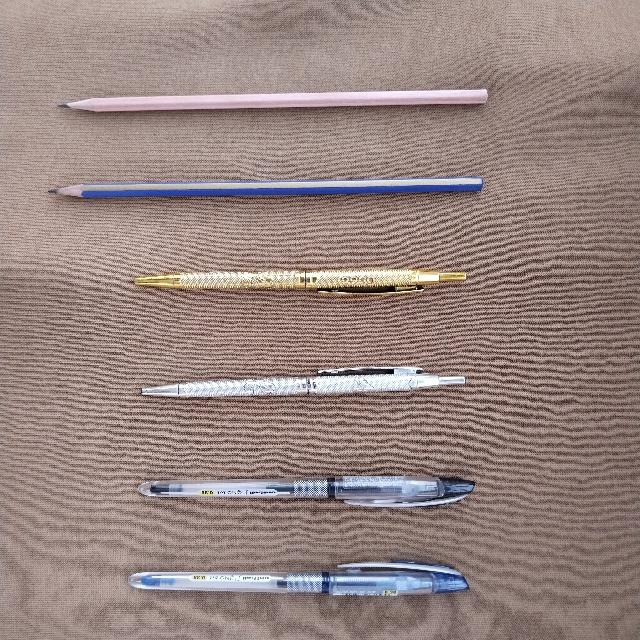pen: (128, 561, 468, 595), (138, 476, 474, 507)
pencil: (60, 89, 487, 111), (50, 177, 482, 197)
signature pen: (141, 367, 464, 397), (135, 268, 465, 293)
